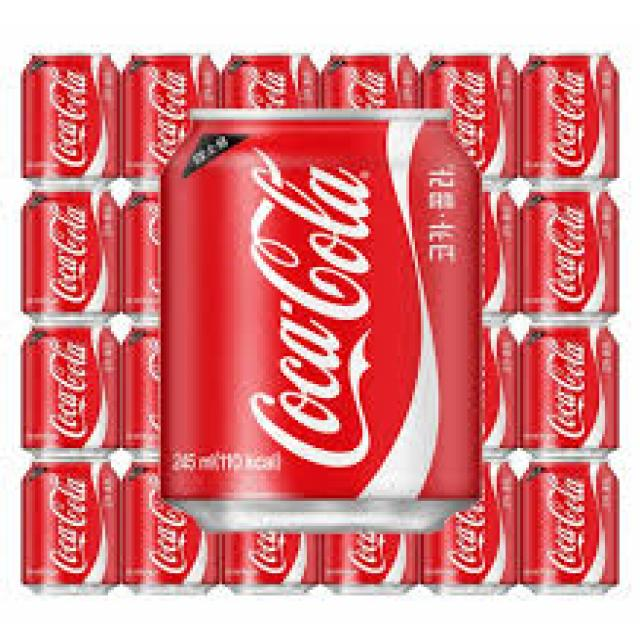Coca-Cola: (151, 94, 488, 540), (511, 313, 626, 462), (12, 452, 122, 603), (517, 451, 622, 606), (512, 184, 624, 324), (524, 44, 628, 186), (14, 314, 120, 452), (15, 54, 123, 188), (13, 187, 121, 320), (423, 448, 518, 599), (325, 48, 424, 192), (224, 448, 314, 605), (329, 452, 424, 600), (426, 42, 521, 188), (224, 54, 324, 192), (122, 52, 220, 190), (129, 459, 212, 600)
